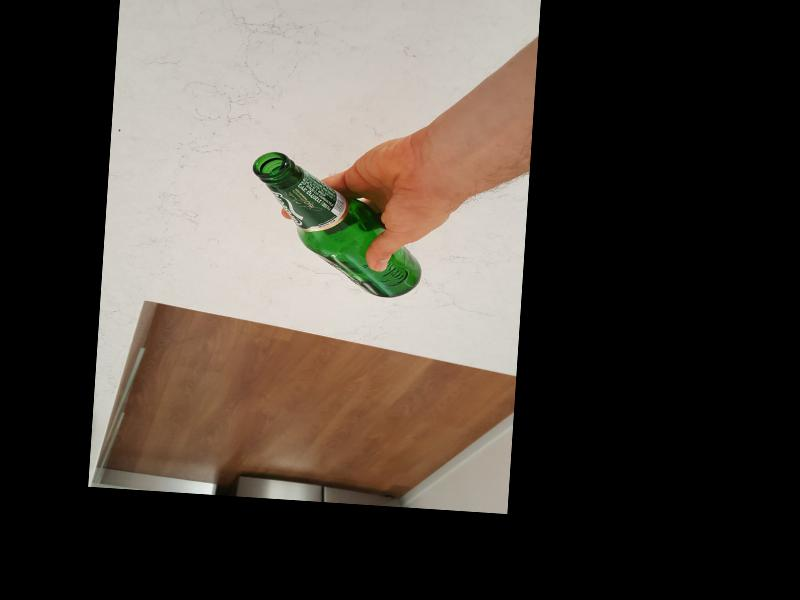Beer: (243, 148, 427, 299)
